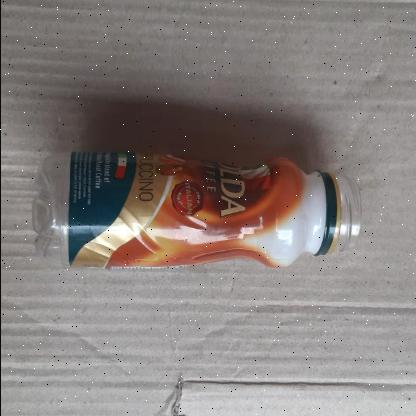Plastic Bottle: (28, 131, 367, 287)
